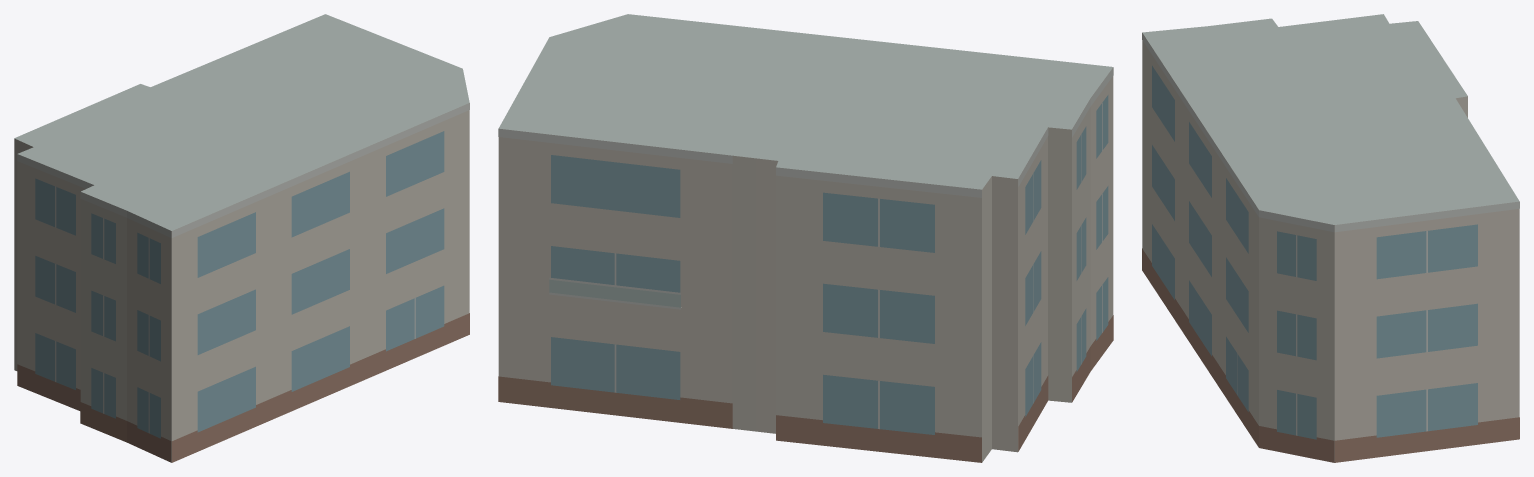
Rendered from survey-upis-32490756.glb.
3 renders of one model, left to right at view 1: azimuth 30°, elevation 25°; view 2: azimuth 150°, elevation 25°; view 3: azimuth 270°, elevation 25°, orthographic. The views are drawn at different scales.
Visible parts, largest first — view 1: survey-upis-32490756.tmp; view 2: survey-upis-32490756.tmp; view 3: survey-upis-32490756.tmp.
Boxes of the visible parts, bbox=[...] form: survey-upis-32490756.tmp: bbox=[14, 14, 469, 462]; survey-upis-32490756.tmp: bbox=[498, 14, 1113, 462]; survey-upis-32490756.tmp: bbox=[1142, 14, 1519, 462].
Bounding box in the file's own units: 15.2 × 7.98 × 11.5.
